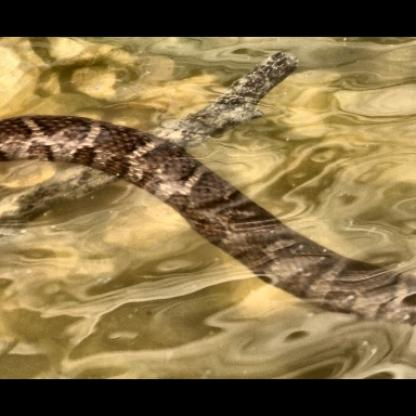Snake: (0, 40, 415, 377)
